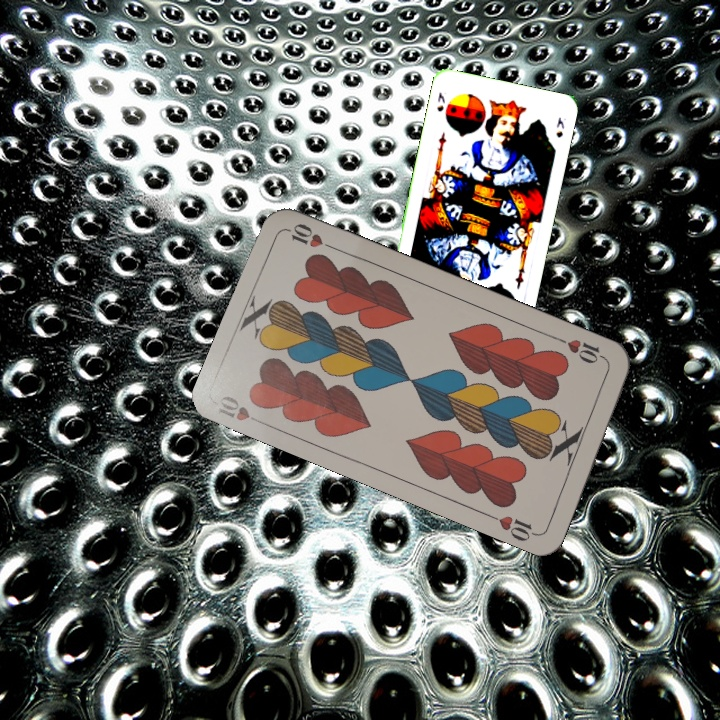H10: (214, 391, 269, 429), (554, 333, 610, 367)
SK: (433, 88, 447, 114)
